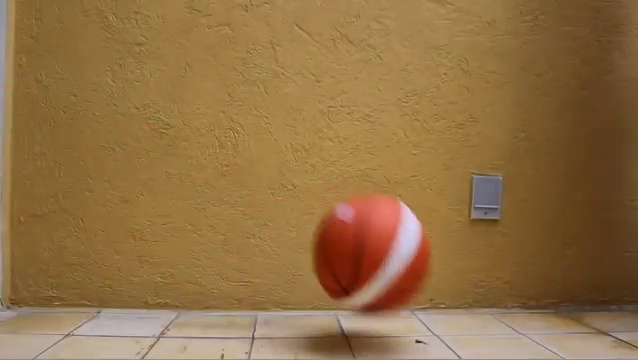ball: (311, 192, 433, 311)
